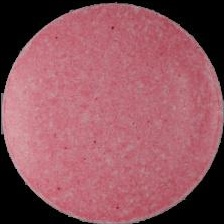55154-7701: (0, 0, 224, 224)
